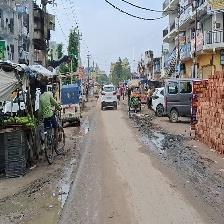Car: (97, 83, 122, 112)
Road: (61, 99, 215, 223)
